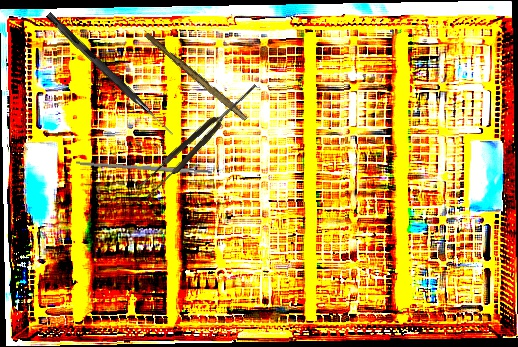Hook Surgical: (44, 12, 177, 137)
Scalpel Handle: (142, 31, 251, 122), (75, 160, 213, 176)
Tissue Forceps: (135, 78, 264, 200)
